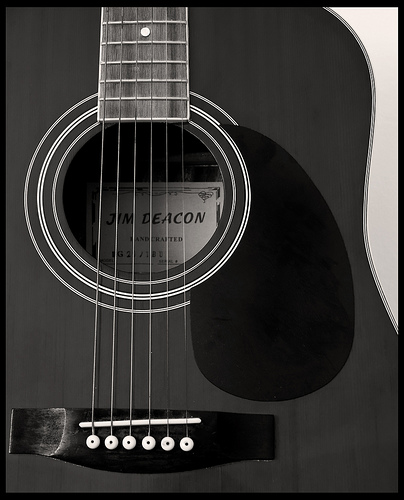guitar: (6, 6, 396, 492)
